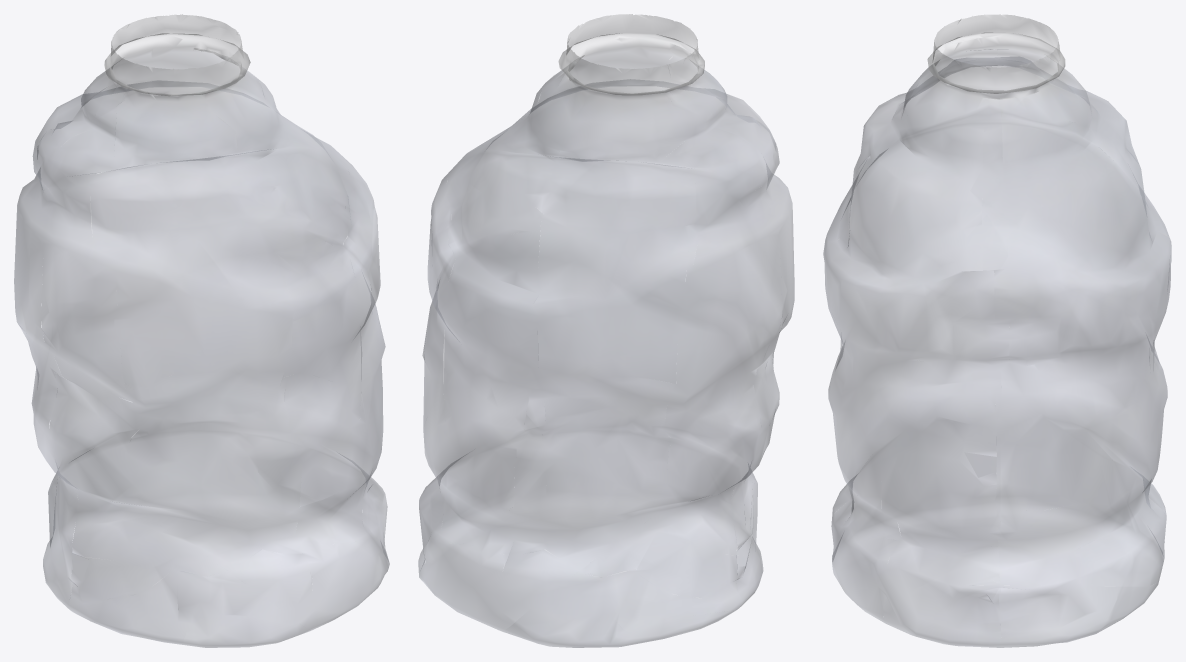
The model's file is 07_2_nj_et_cc_m_trs.glb.
3 views of the same model, side by side, from view 1: azimuth 30°, elevation 25°; view 2: azimuth 150°, elevation 25°; view 3: azimuth 270°, elevation 25° (orthographic). The views are drawn at different scales.
Visible parts, largest first — view 1: tripo_material_373b0c34-68a8-413f-8876-a308a7c492da.005; view 2: tripo_material_373b0c34-68a8-413f-8876-a308a7c492da.005; view 3: tripo_material_373b0c34-68a8-413f-8876-a308a7c492da.005.
Part boxes in pixels (bbox=[...]): tripo_material_373b0c34-68a8-413f-8876-a308a7c492da.005: bbox=[14, 14, 389, 647]; tripo_material_373b0c34-68a8-413f-8876-a308a7c492da.005: bbox=[418, 14, 794, 647]; tripo_material_373b0c34-68a8-413f-8876-a308a7c492da.005: bbox=[823, 14, 1171, 647].
Size of the model in its own units: 0.1609 by 0.2501 by 0.1508.
Materials: 1 (1 with a texture image).
